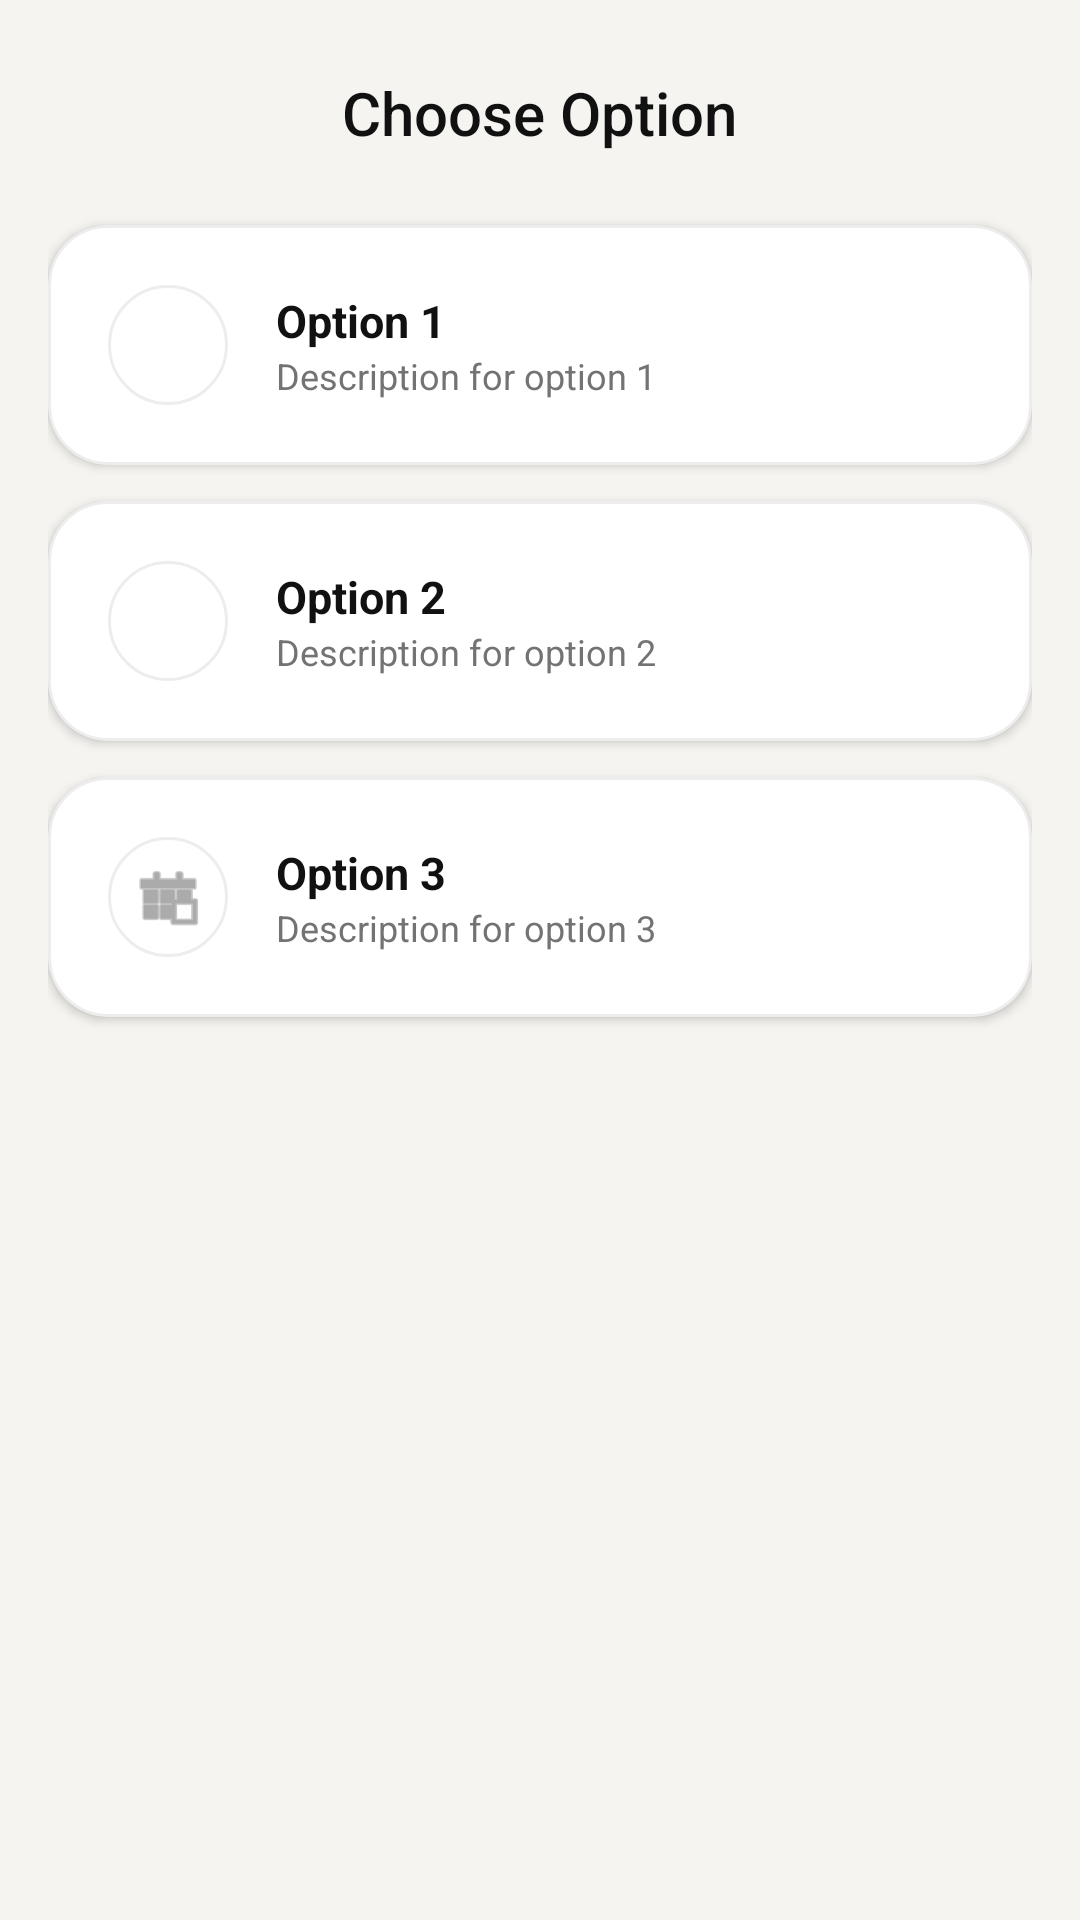

Icon bounding boxes for this 1080px x 1920px phone screenshot, format box=[x1, y1, x2, y2]:
today: box=[139, 871, 198, 925]
